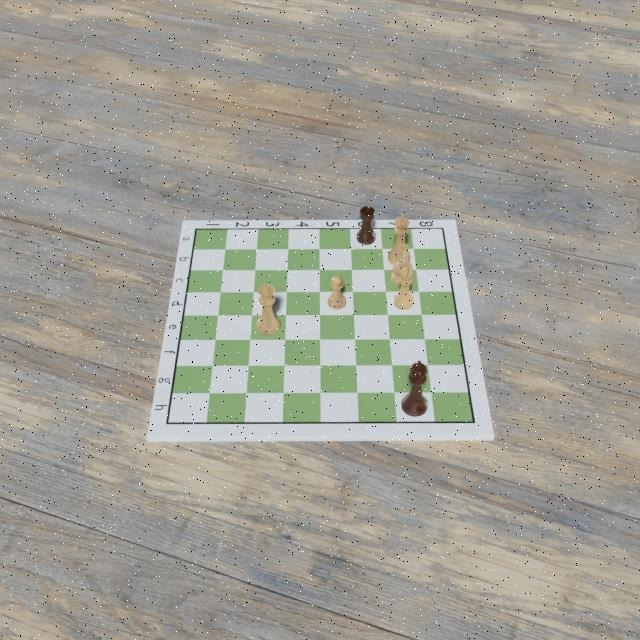black-king: (399, 358, 429, 418)
black-rook: (354, 203, 377, 246)
white-bishop: (391, 264, 414, 312)
white-king: (387, 212, 413, 267)
white-knight: (390, 242, 413, 286)
white-pawn: (326, 273, 346, 310)
white-queen: (254, 283, 283, 337)
